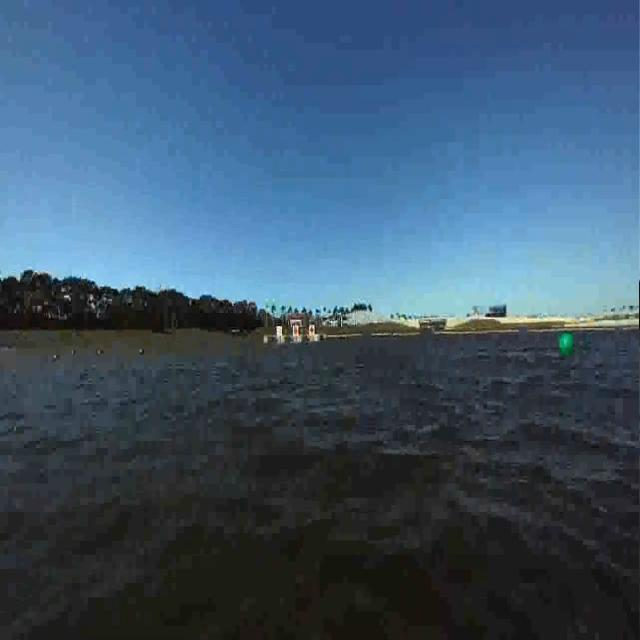green-buoy: (560, 334, 575, 356)
